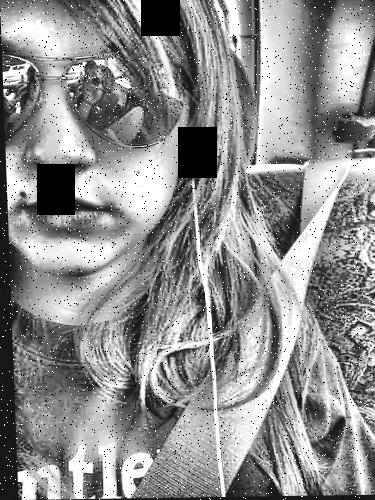seatbelt: (155, 149, 368, 481)
